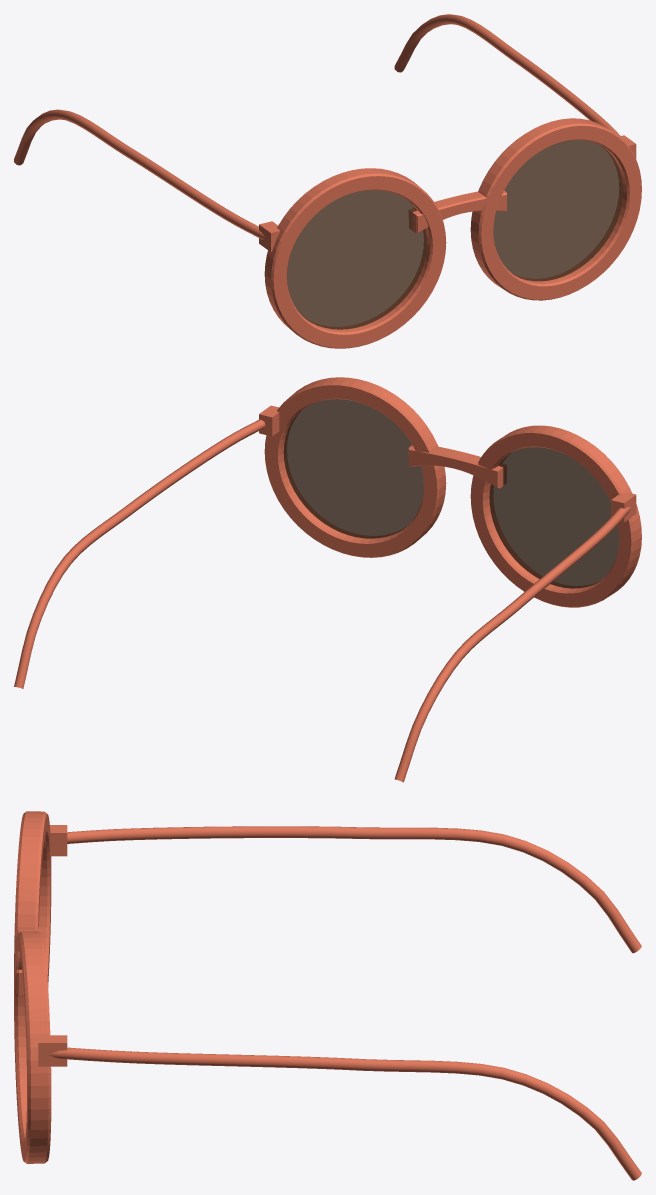
Rendered from NY-K05_Sunny_Coral_Brown_lens.glb.
3 renders of one model, top to bottom at view 1: azimuth 30°, elevation 25°; view 2: azimuth 150°, elevation 25°; view 3: azimuth 270°, elevation 25°, orthographic. The views are drawn at different scales.
Visible parts, largest first — view 1: Sunny_Coral_Brown_lens_Acetate, Sunny_Coral_Brown_lens_Lenses; view 2: Sunny_Coral_Brown_lens_Acetate, Sunny_Coral_Brown_lens_Lenses; view 3: Sunny_Coral_Brown_lens_Acetate.
Part boxes in pixels (left/top/right/bottom): Sunny_Coral_Brown_lens_Acetate: left=14, top=14, right=641, bottom=348; Sunny_Coral_Brown_lens_Lenses: left=287, top=140, right=623, bottom=329; Sunny_Coral_Brown_lens_Acetate: left=14, top=377, right=641, bottom=782; Sunny_Coral_Brown_lens_Lenses: left=283, top=399, right=619, bottom=588; Sunny_Coral_Brown_lens_Acetate: left=14, top=811, right=641, bottom=1180.
Size of the model in its own units: 0.1241 by 0.0508 by 0.138.
